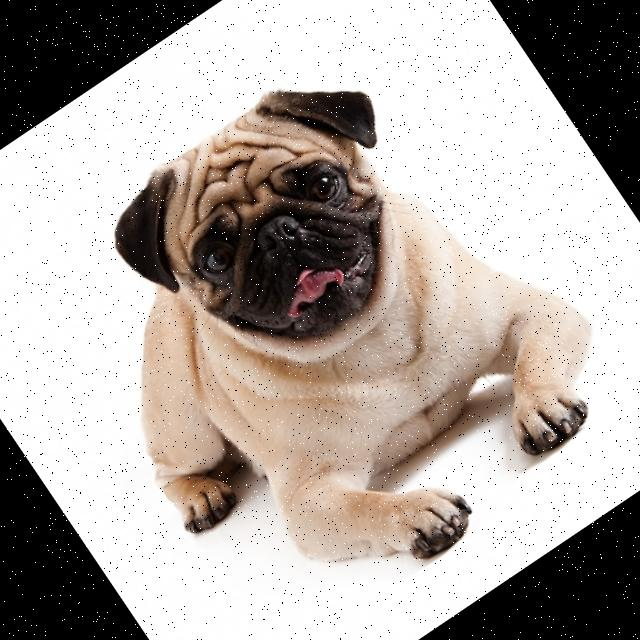Dog: (10, 17, 640, 640)
